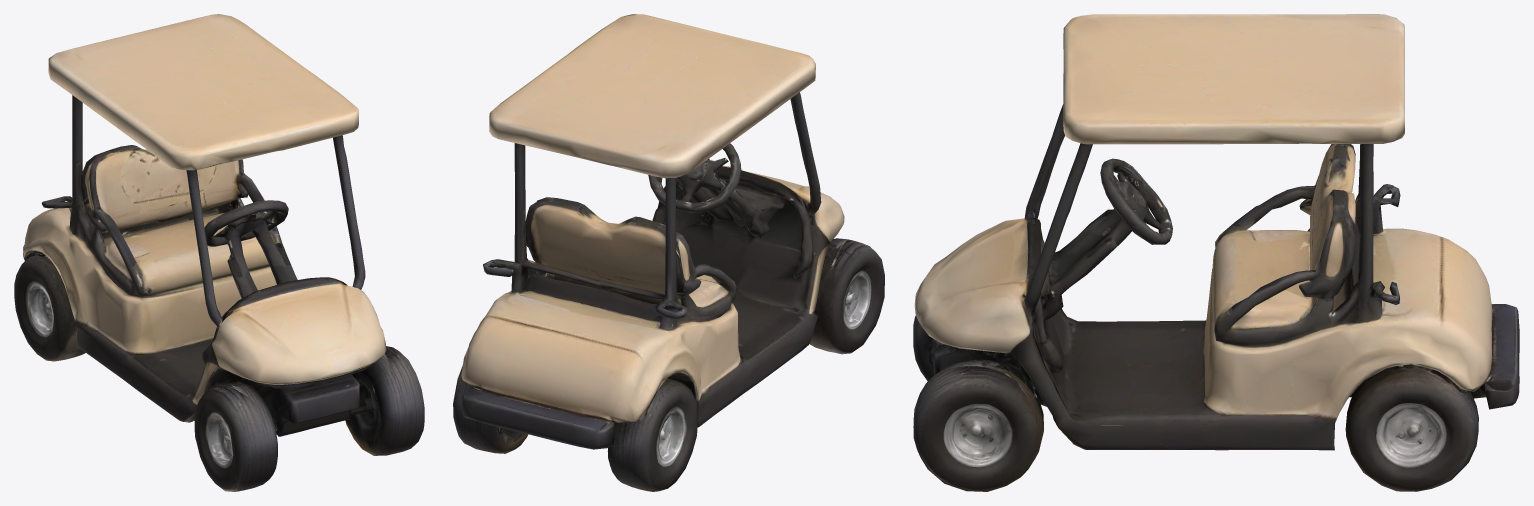
The model's file is golfcart.glb.
3 renders of one model, left to right at view 1: azimuth 30°, elevation 25°; view 2: azimuth 150°, elevation 25°; view 3: azimuth 270°, elevation 25°, orthographic. The views are drawn at different scales.
Size of the model in its own units: 0.8887 by 1.36 by 1.99.
1 material, 1 textured.
